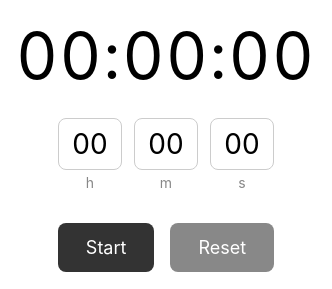
TimerScreen › duration inputs › typing into the hours input updates the time display
Type "2" into the field with test id "input-hours" at (90, 144), box [58,118,122,170]
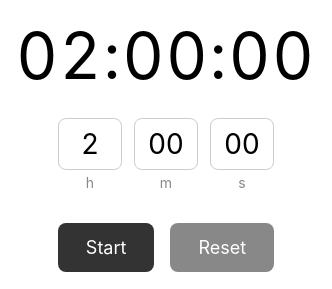
Expected: the text with test id "time-display" reads "02:00:00", [16,16,316,94]
